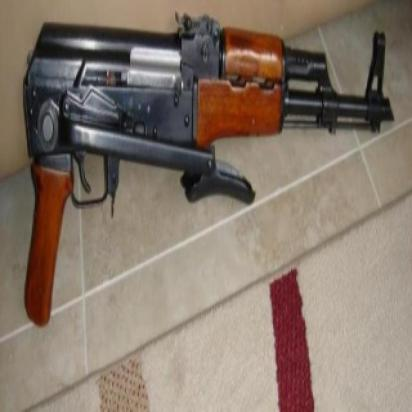Gun: (15, 7, 394, 328)
